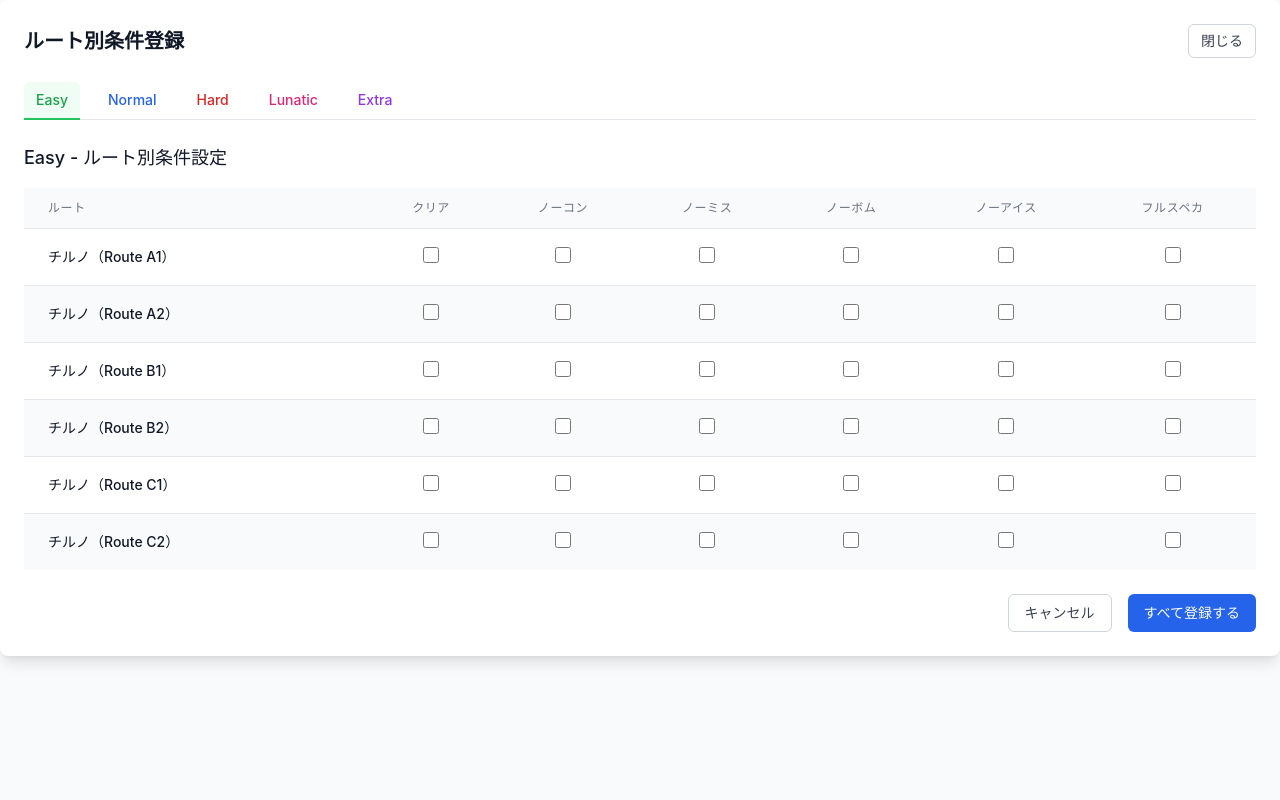
IndividualTabClearForm › 妖精大戦争の特殊表示 › タブ切り替え動作 › タブ切り替えによってキャラクター表示が正しく変わる
This screenshot has width=1280, height=800.
Expected: the text "チルノ（Route A1）" is shown, [24,228,371,286]
Expected: the text "チルノ（Extra）" is not shown
// Extraタブに切り替え
What coordinates should you click on to do the following:
click the button "Extra"
I would click on:
 (375, 101)
Its box is [346,82,404,120].
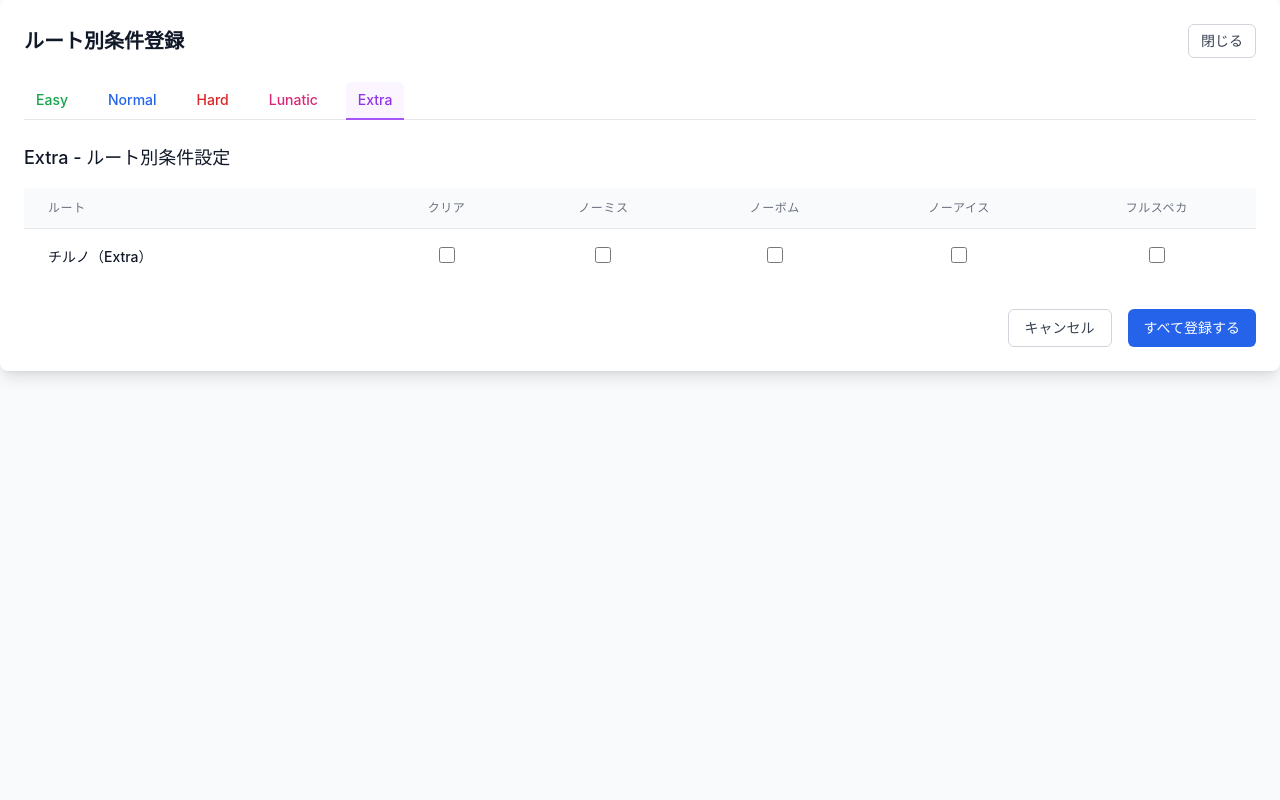
Now the text "チルノ（Route A1）" is gone
// Hardタブに切り替え
What coordinates should you click on to do the following:
click the button "Hard"
I would click on:
 (213, 101)
Its box is [185,82,241,120].
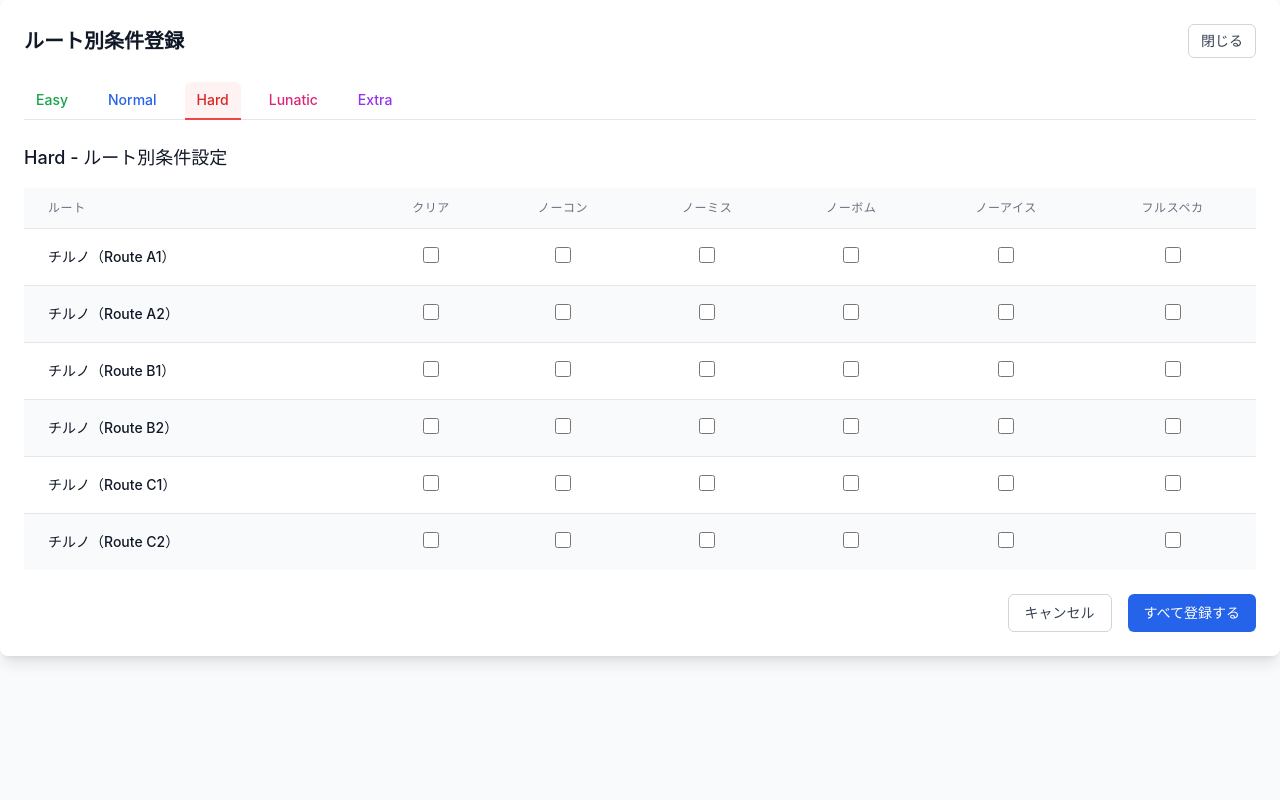
Now the text "チルノ（Route A1）" is shown, box [24,228,371,286]
Now the text "チルノ（Extra）" is gone
